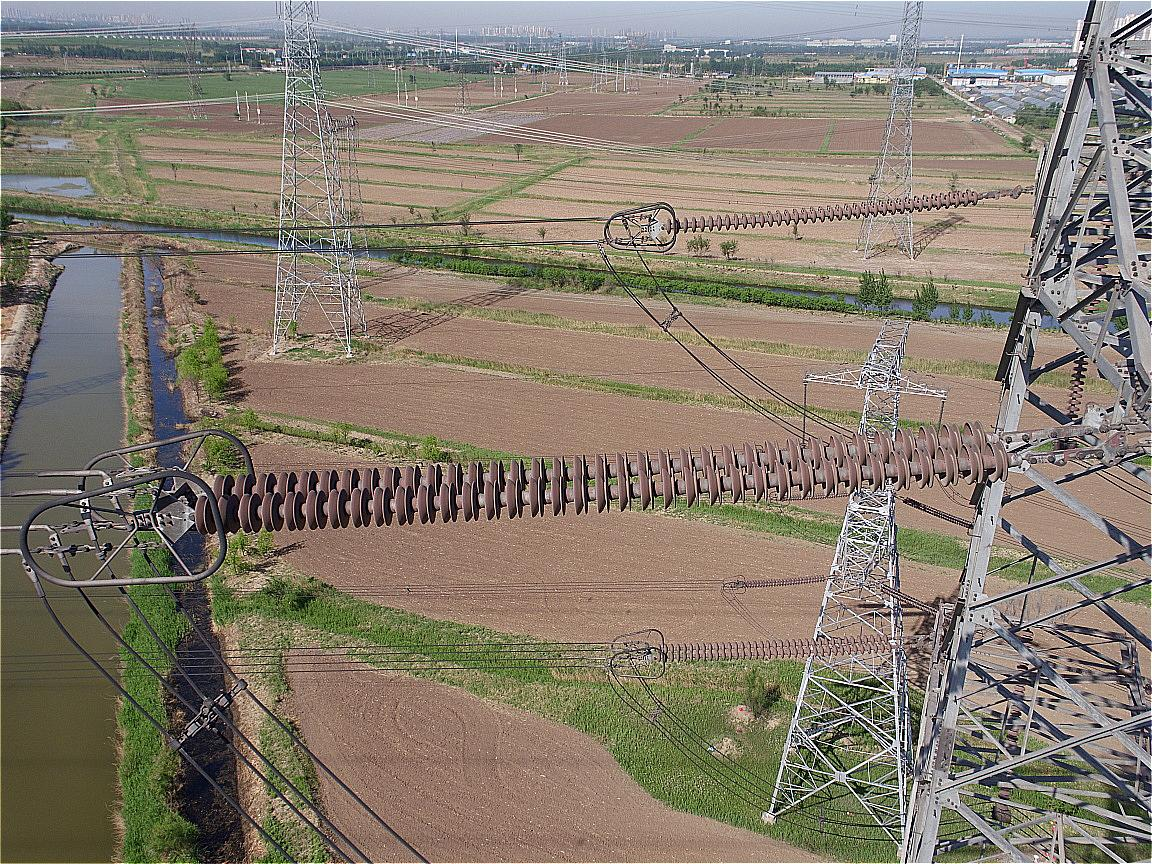insultor1: (665, 188, 981, 234), (662, 632, 893, 661)
insultor2: (194, 419, 1011, 536)
